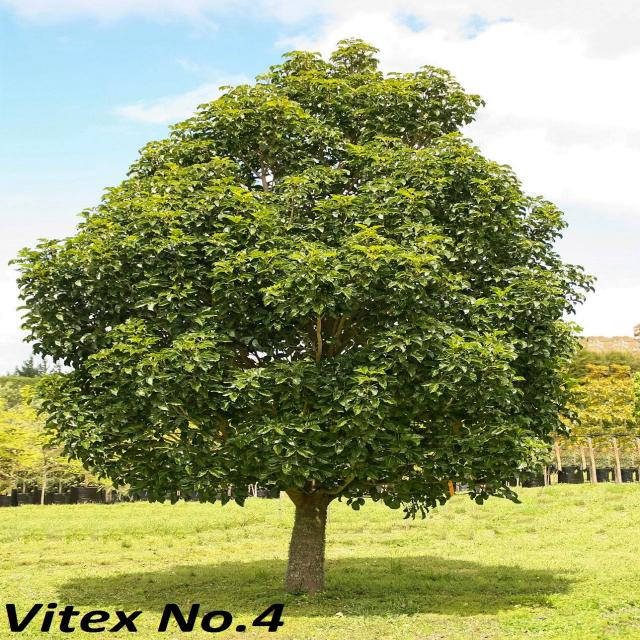Puriri: (11, 48, 587, 595)
